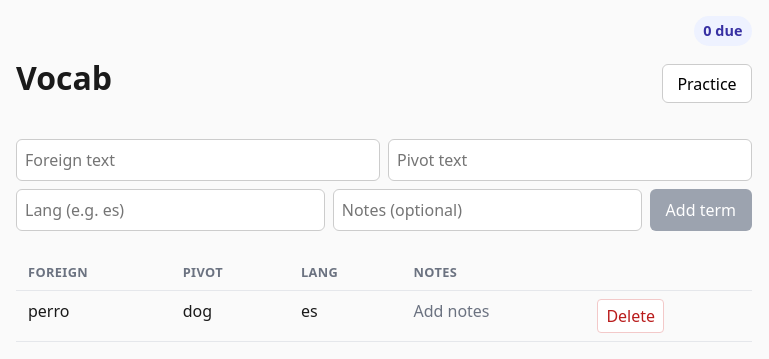
Test: Vocab screen › deletes a term only after the confirm is accepted
Step 1. Click the button "Delete" → (631, 316), box [597,299,664,333]
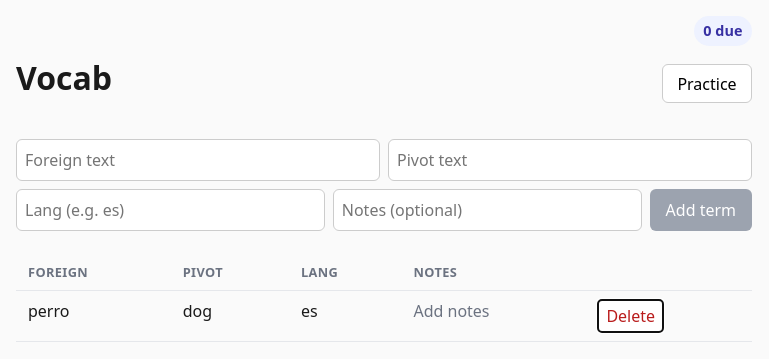
Step 2. Click the button "Delete" → (631, 316), box [597,299,664,333]
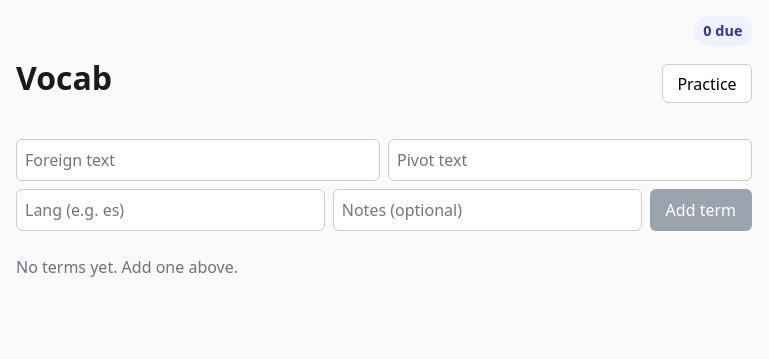
Now the text "No terms yet. Add one above." is shown, box [16,256,238,278]
